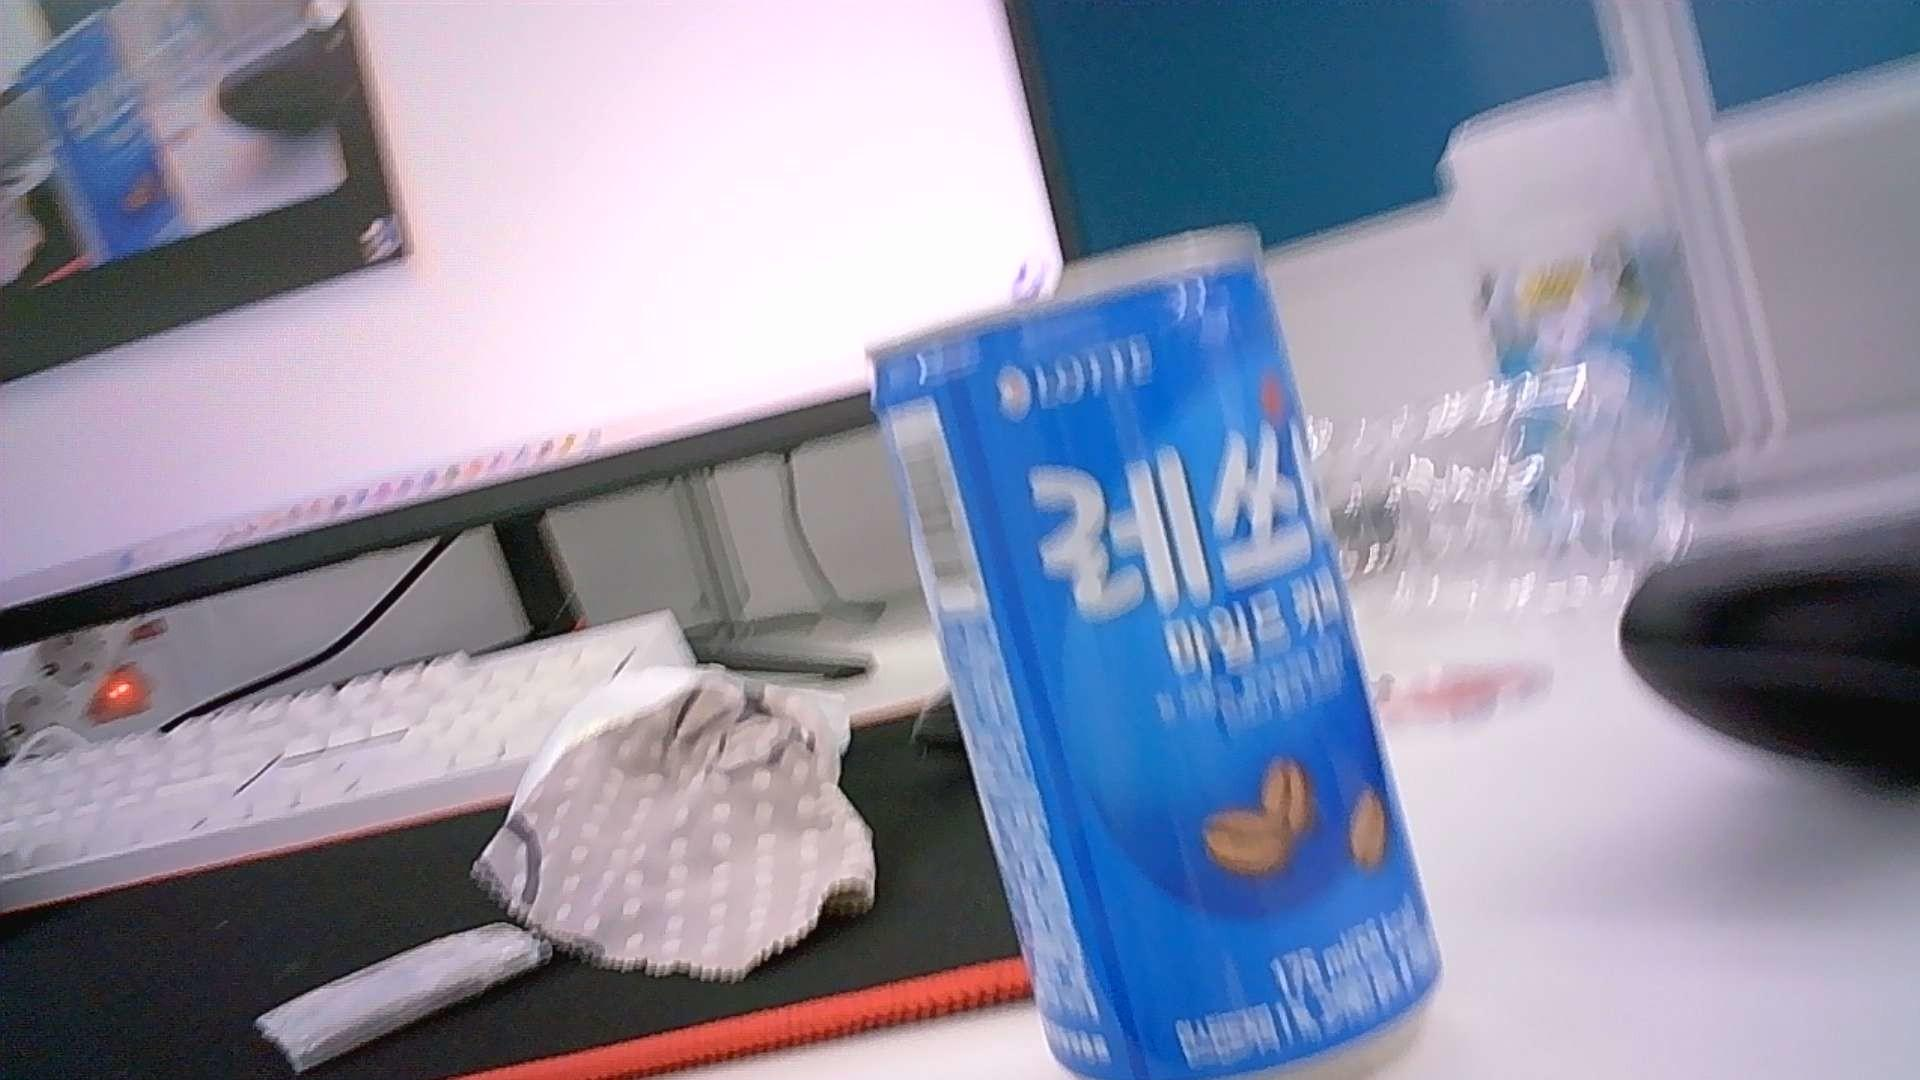letsbe: (866, 222, 1443, 1080)
